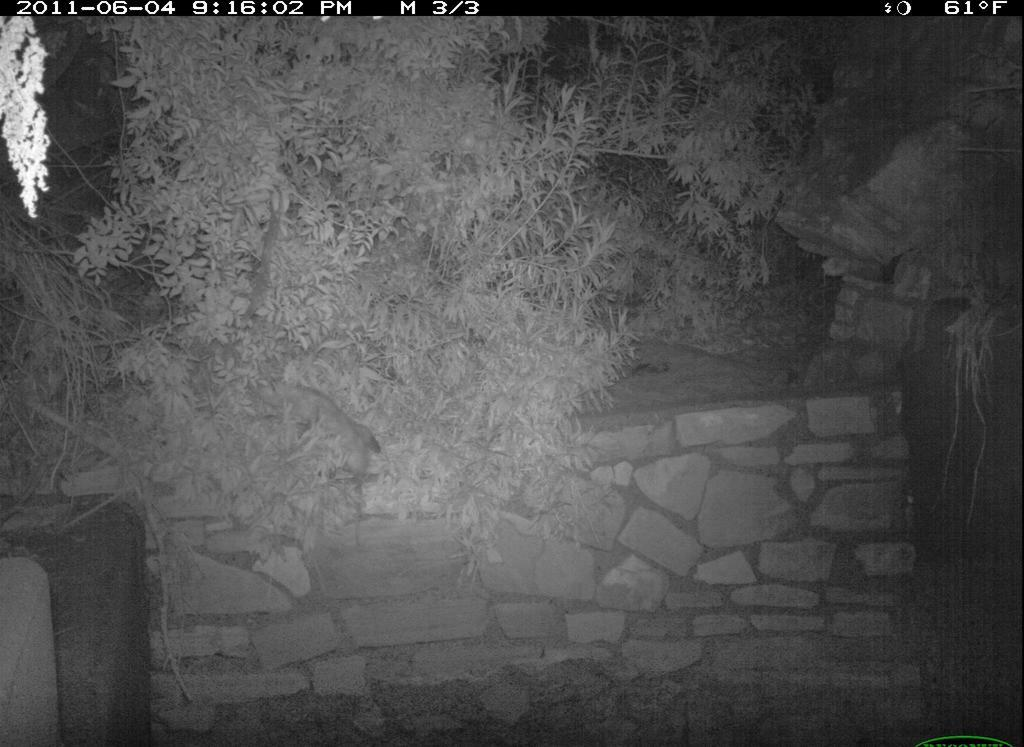opossum: (246, 367, 406, 524)
